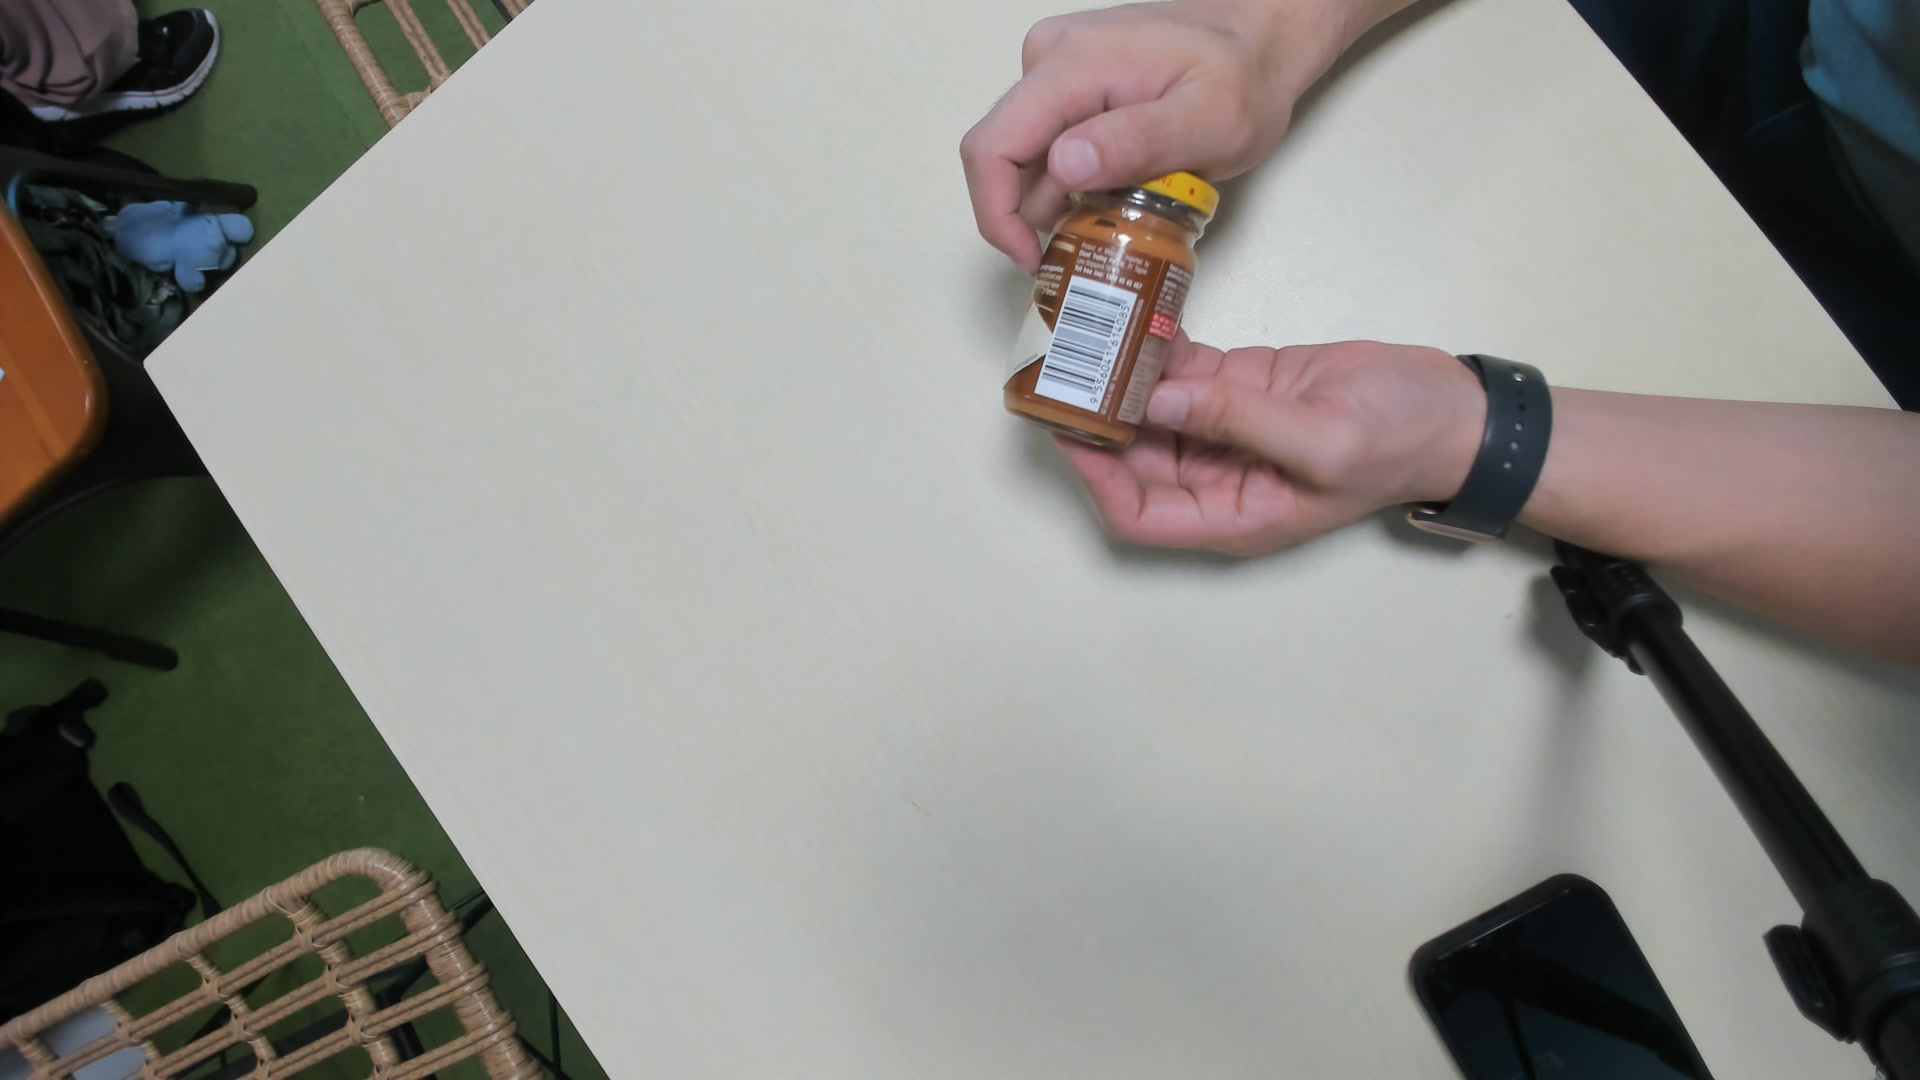OtherSauceDressing_200-299g_Halal_NonHealthy: (1005, 150, 1213, 458)
